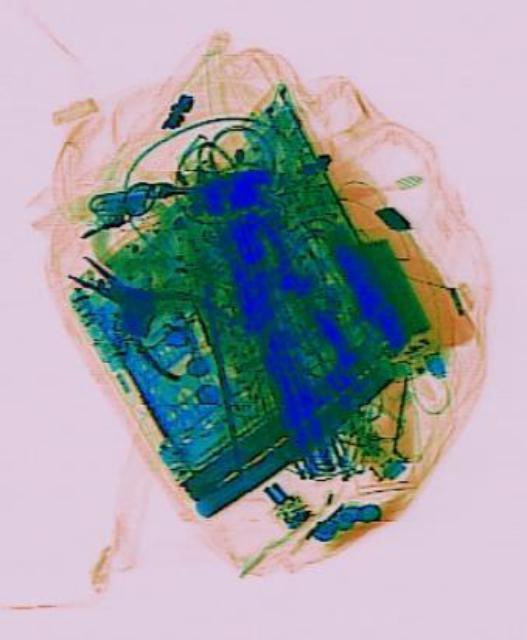Pliers: (50, 220, 240, 400)
